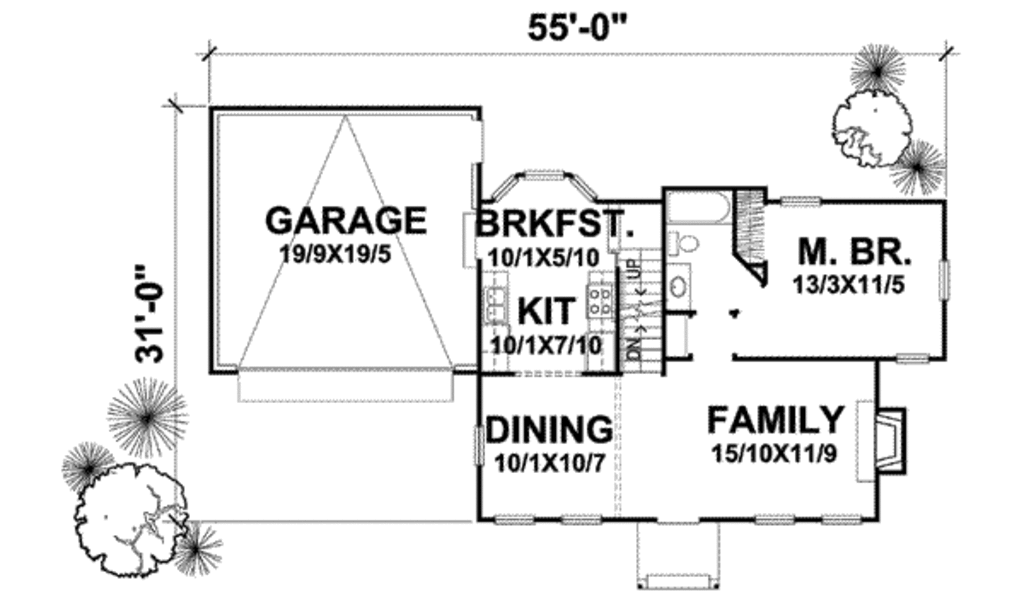large_sink: (664, 226, 701, 260)
small_sink: (661, 260, 692, 312)
stairs: (620, 252, 665, 379)
tub: (665, 187, 734, 228)
twin_sink: (482, 289, 506, 326)
windows: (495, 170, 595, 203), (935, 256, 954, 302), (563, 509, 603, 529), (820, 511, 863, 529), (750, 513, 797, 528), (778, 196, 825, 209), (491, 515, 535, 527), (891, 353, 929, 366), (474, 426, 484, 466)
